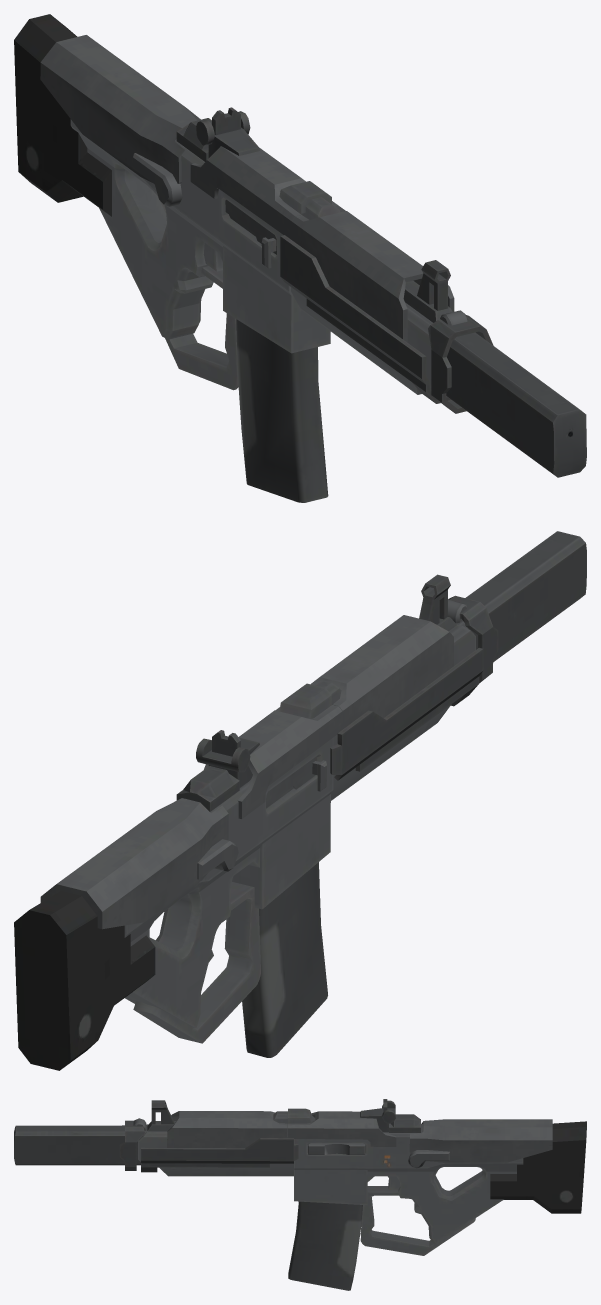
File: rifle.opt.glb
3 views of the same model, one above another, from view 1: azimuth 30°, elevation 25°; view 2: azimuth 150°, elevation 25°; view 3: azimuth 270°, elevation 25° (orthographic). The views are drawn at different scales.
Visible parts, largest first — view 1: add1_lo_ADD_0, clip_lo_Scope_0, body_lo_Material_0; view 2: add1_lo_ADD_0, clip_lo_Scope_0, body_lo_Material_0; view 3: add1_lo_ADD_0, clip_lo_Scope_0, body_lo_Material_0.
Part boxes in pixels (<box>): add1_lo_ADD_0: <box>14,14,467,342</box>; clip_lo_Scope_0: <box>176,107,586,502</box>; body_lo_Material_0: <box>70,119,432,394</box>; add1_lo_ADD_0: <box>14,599,467,1070</box>; clip_lo_Scope_0: <box>176,531,586,1057</box>; body_lo_Material_0: <box>124,624,475,1043</box>; add1_lo_ADD_0: <box>133,1111,586,1213</box>; clip_lo_Scope_0: <box>14,1099,420,1290</box>; body_lo_Material_0: <box>138,1108,523,1255</box>.
Bounding box in the file's own units: 0.5316 × 2.52 × 7.01.
3 materials, 3 textured.
